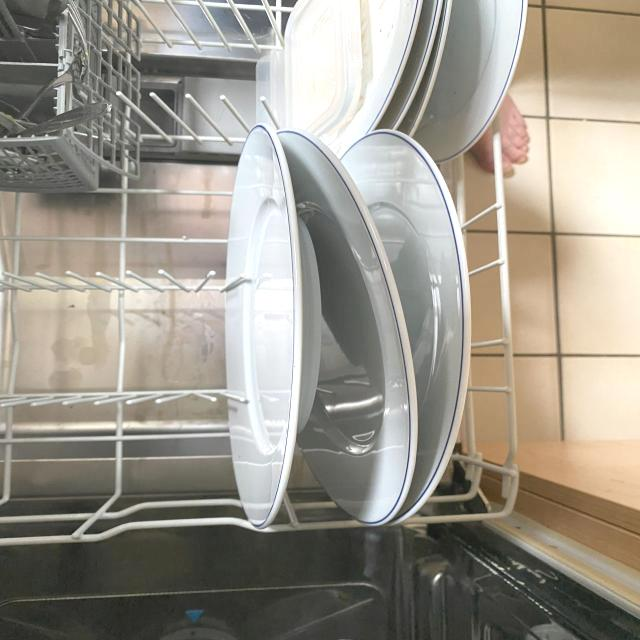clutery_bin: (8, 0, 112, 163)
empty_slot: (13, 187, 221, 516)
